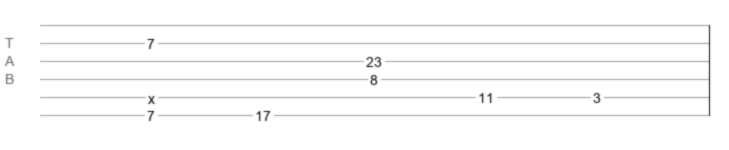11: (478, 90, 494, 100)
17: (255, 108, 271, 118)
23: (366, 54, 382, 64)
3: (593, 90, 601, 100)
7: (147, 108, 155, 118), (147, 36, 155, 46)
8: (370, 72, 378, 82)
x: (148, 91, 155, 99)
